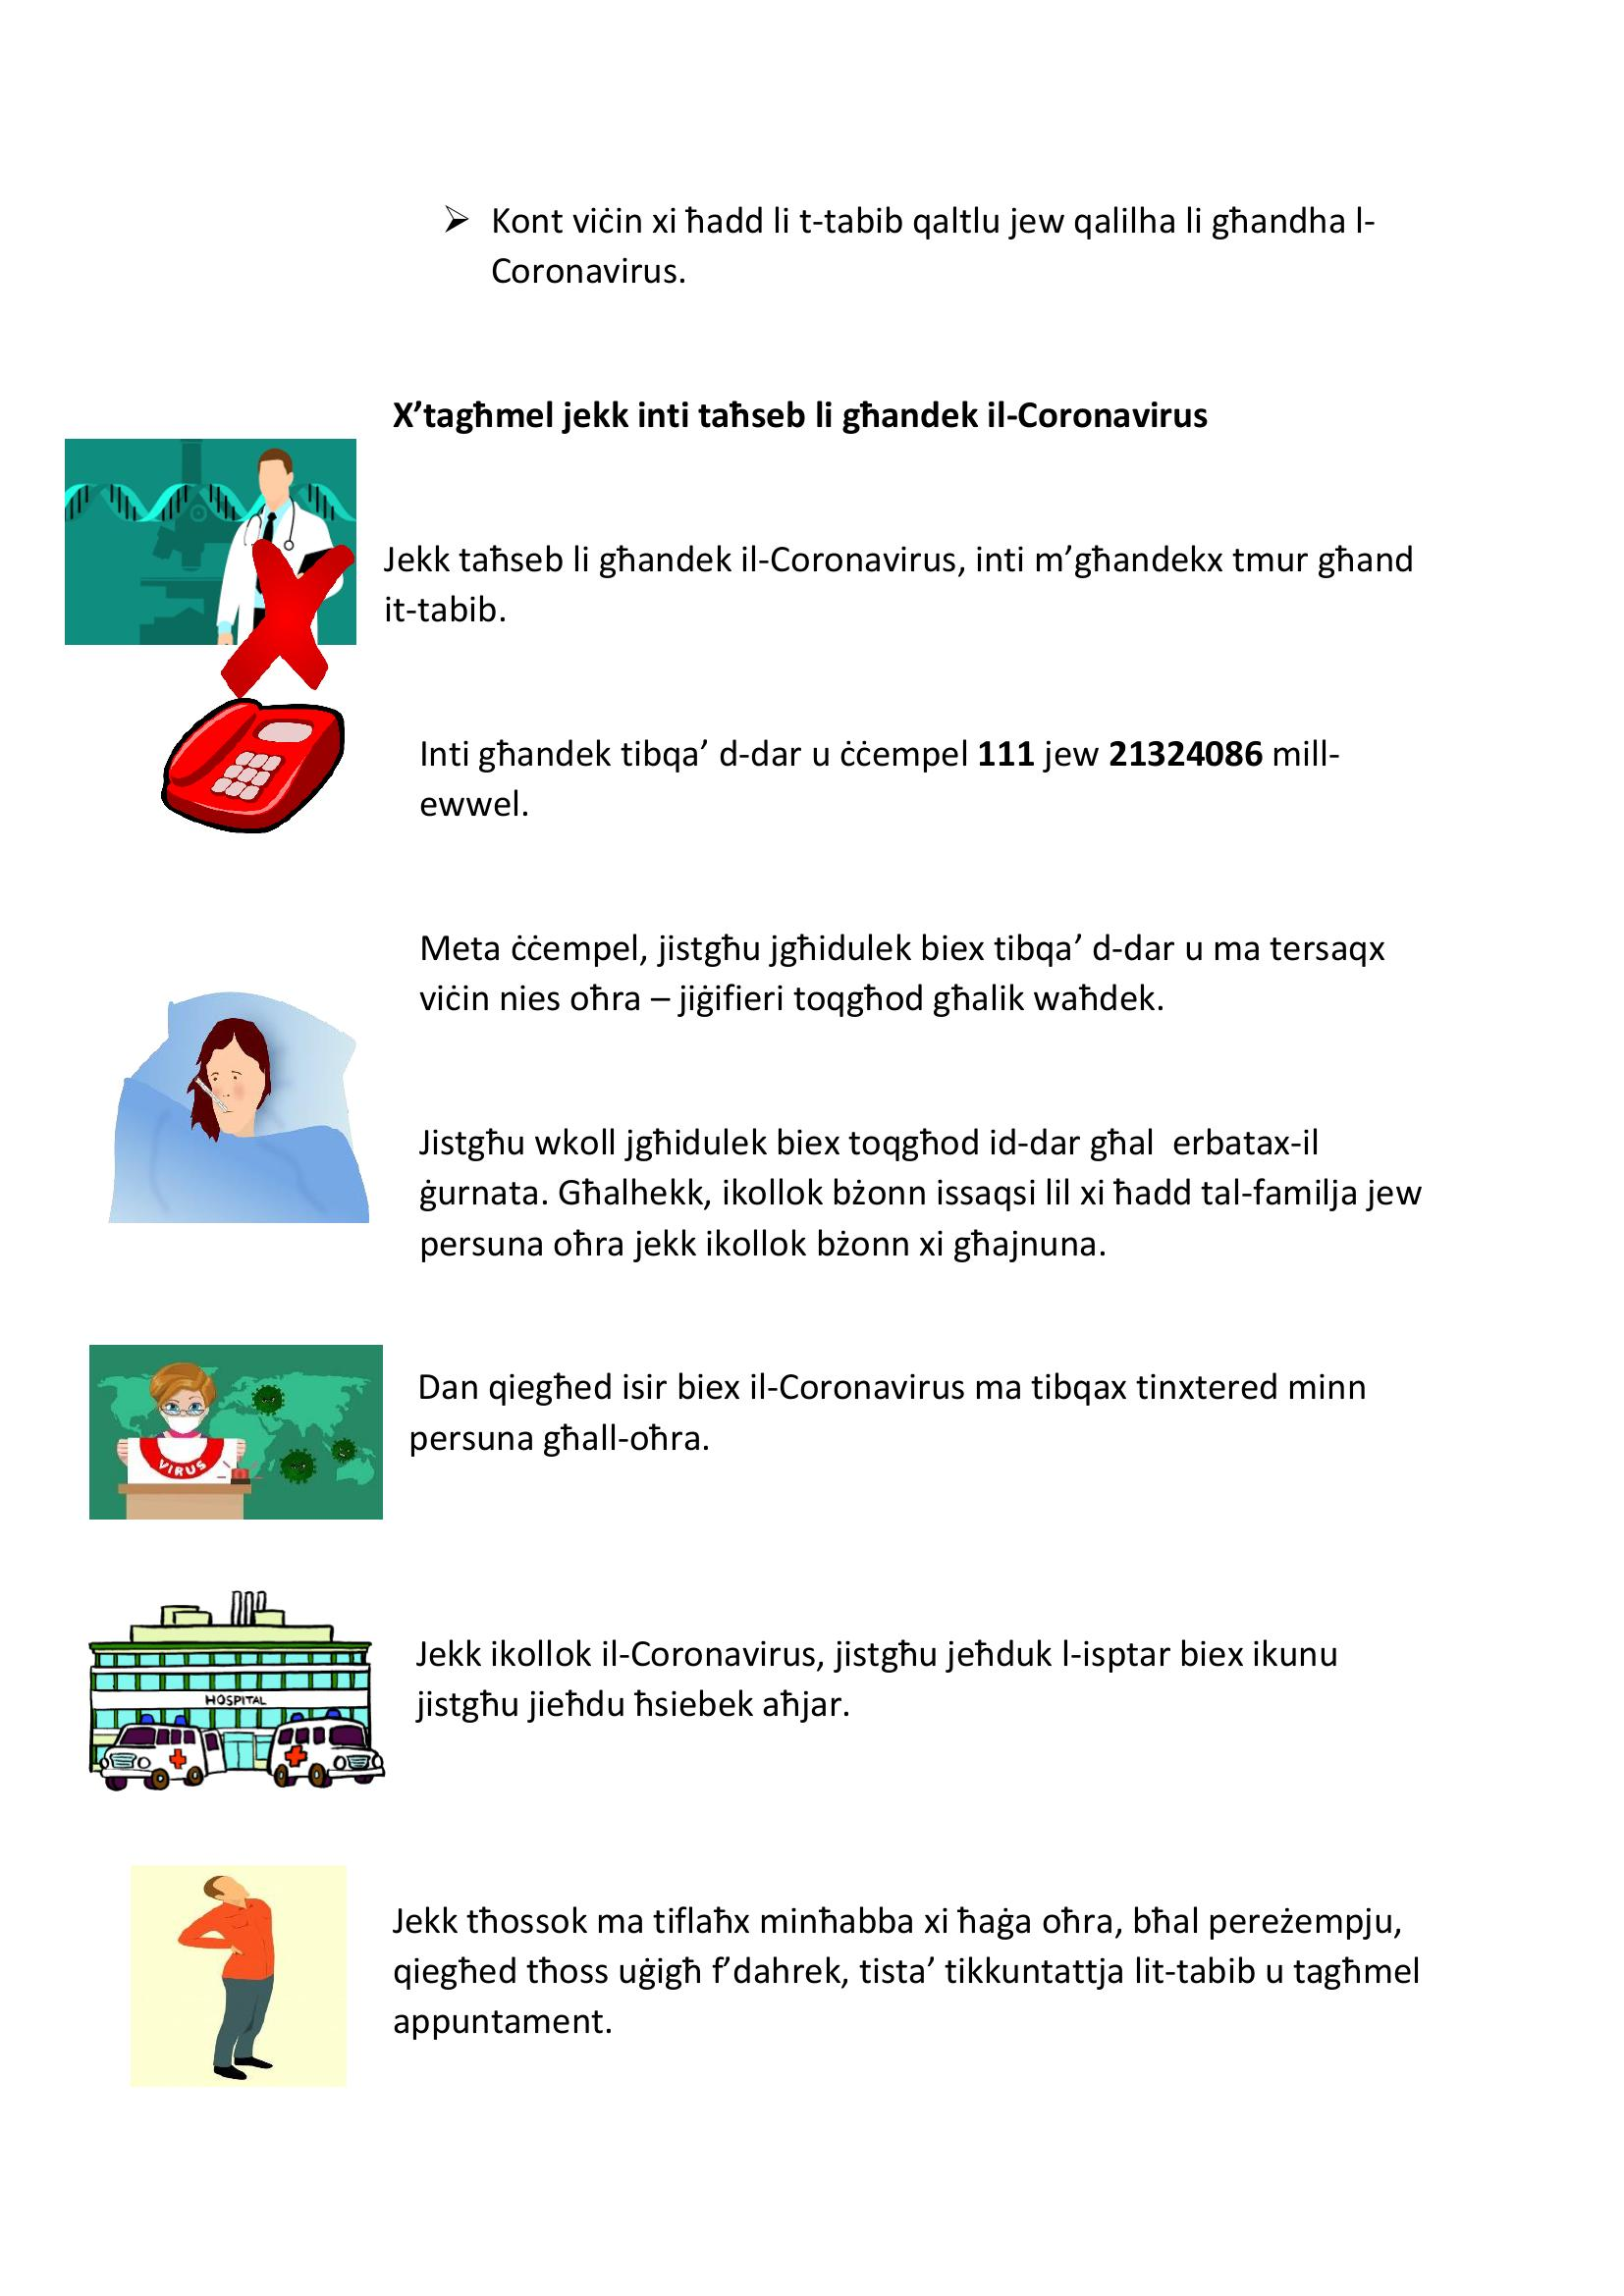text: (380, 181, 1476, 2097)
whiteout: (70, 1325, 395, 1822)
